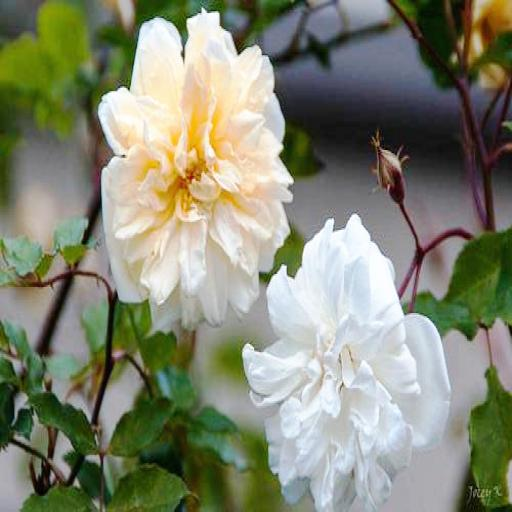rose: (101, 13, 286, 313), (244, 217, 419, 512)
